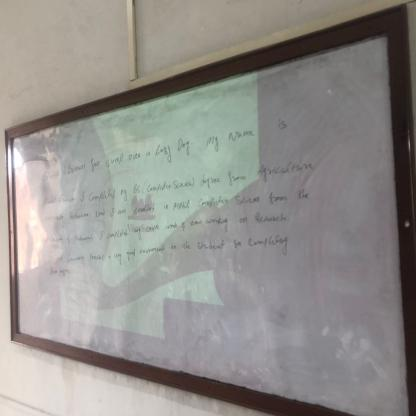Handwritten text: (35, 106, 300, 195), (38, 150, 321, 213), (40, 182, 315, 232), (63, 228, 291, 271), (65, 208, 293, 249)
Whiteboard: (1, 29, 409, 416)
